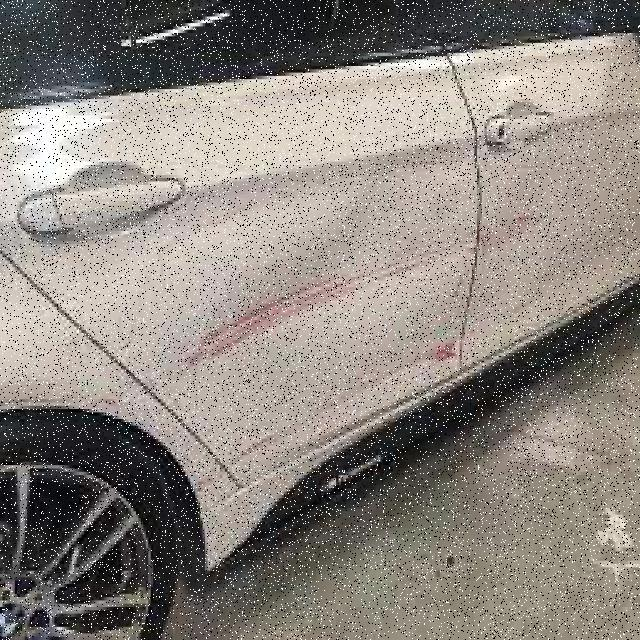doorouter-dent: (20, 82, 460, 418), (467, 36, 632, 362)
